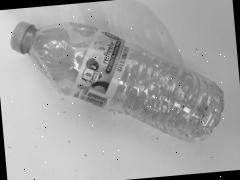plastic: (5, 0, 240, 173)
